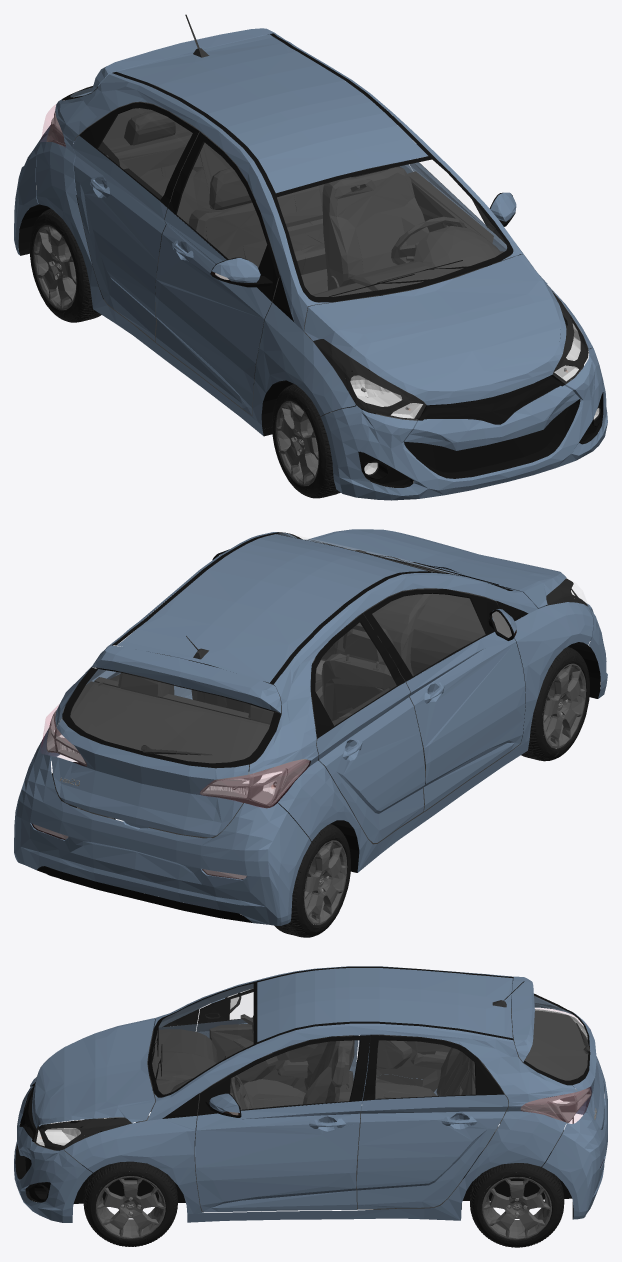
The picture shows the model from 3 angles, top to bottom: view 1: azimuth 30°, elevation 25°; view 2: azimuth 150°, elevation 25°; view 3: azimuth 270°, elevation 25°; orthographic projection. The views are drawn at different scales.
Visible parts, largest first — view 1: object 7, object 3, object 8, WHEEL_WHEEL_bb, WHEEL_WHEEL_ba, WHEEL_Object_27, WHEEL_Object_35, object 25, object 27; view 2: object 7, object 3, object 8, object 5, WHEEL_WHEEL_ba, WHEEL_WHEEL_bb, WHEEL_Object_35, WHEEL_Object_27, object 25; view 3: object 7, object 3, object 8, WHEEL_Object_23, WHEEL_Object_31, WHEEL_WHEEL_ab, WHEEL_WHEEL_aa, object 5, object 25, object 27.
Boxes of the visible parts, x1,y1,x2,y2 form: object 7: (14, 28, 607, 500); object 3: (74, 14, 513, 480); object 8: (18, 33, 603, 487); WHEEL_WHEEL_bb: (33, 223, 82, 309); WHEEL_WHEEL_ba: (276, 401, 331, 485); WHEEL_Object_27: (272, 384, 336, 498); WHEEL_Object_35: (29, 208, 101, 322); object 25: (36, 144, 599, 474); object 27: (365, 160, 581, 394); object 7: (14, 529, 607, 925); object 3: (70, 550, 520, 878); object 8: (37, 532, 600, 922); object 5: (46, 708, 309, 806); WHEEL_WHEEL_ba: (542, 663, 586, 748); WHEEL_WHEEL_bb: (303, 840, 347, 924); WHEEL_Object_35: (283, 824, 350, 937); WHEEL_Object_27: (521, 646, 589, 761); object 25: (33, 548, 574, 878); object 7: (14, 966, 607, 1222); object 3: (34, 981, 588, 1211); object 8: (15, 966, 600, 1218); WHEEL_Object_23: (83, 1161, 177, 1246); WHEEL_Object_31: (470, 1163, 564, 1247); WHEEL_WHEEL_ab: (482, 1172, 551, 1239); WHEEL_WHEEL_aa: (96, 1171, 165, 1238); object 5: (75, 1009, 591, 1137); object 25: (36, 1029, 581, 1146); object 27: (35, 992, 580, 1139).
Bounding box in the file's own units: 1.86 × 1.59 × 3.94.
